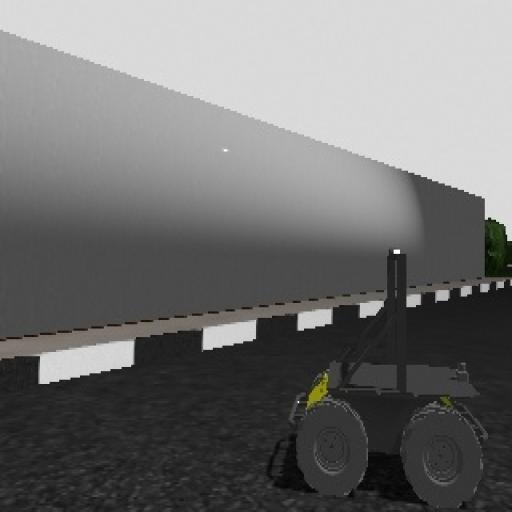huskya200: (279, 236, 495, 504)
